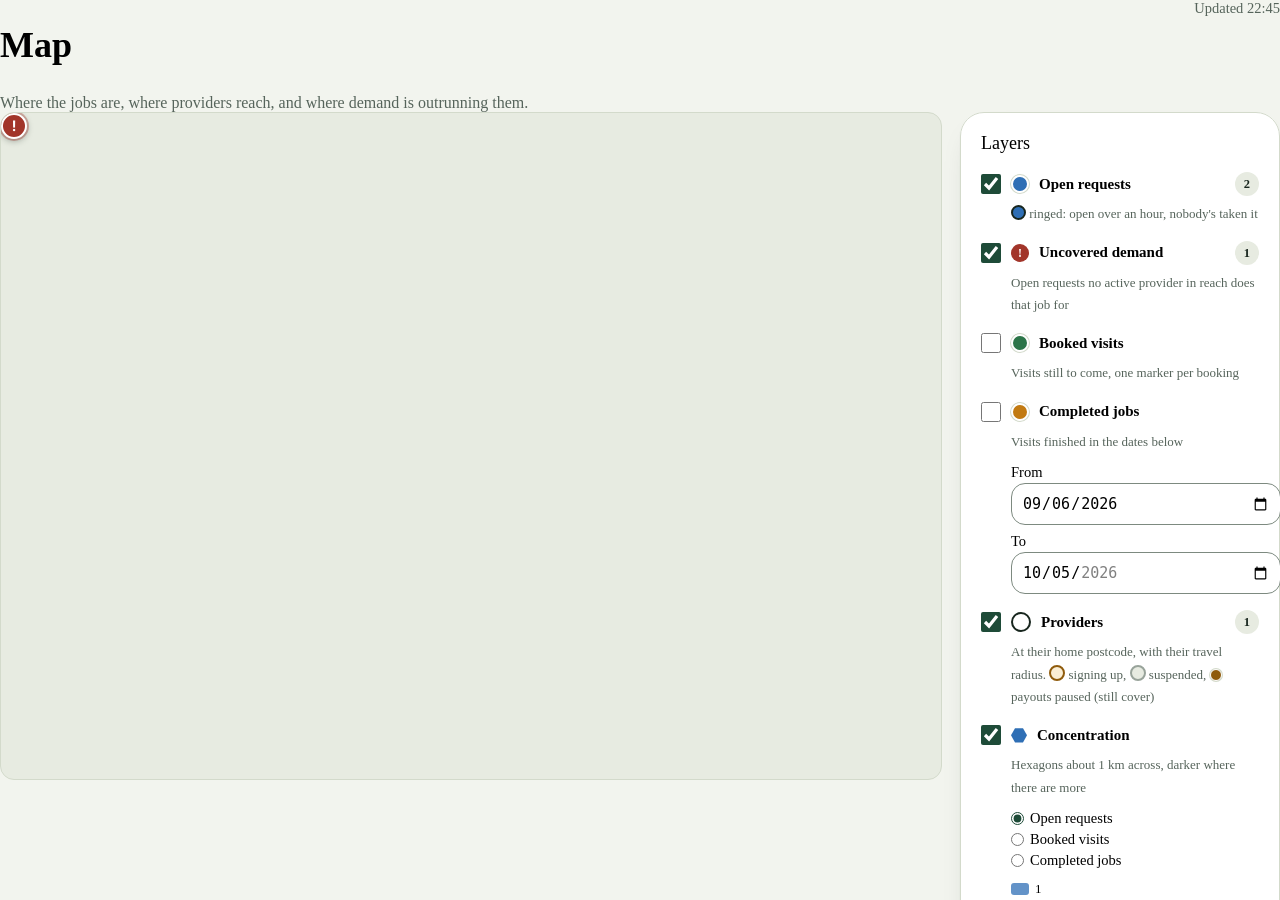
the admin map › names who does a covered visit, and links to them
Click the checkbox labelled "Booked visits" at (991, 343), box top-left (981, 333), bottom-right (1001, 353)
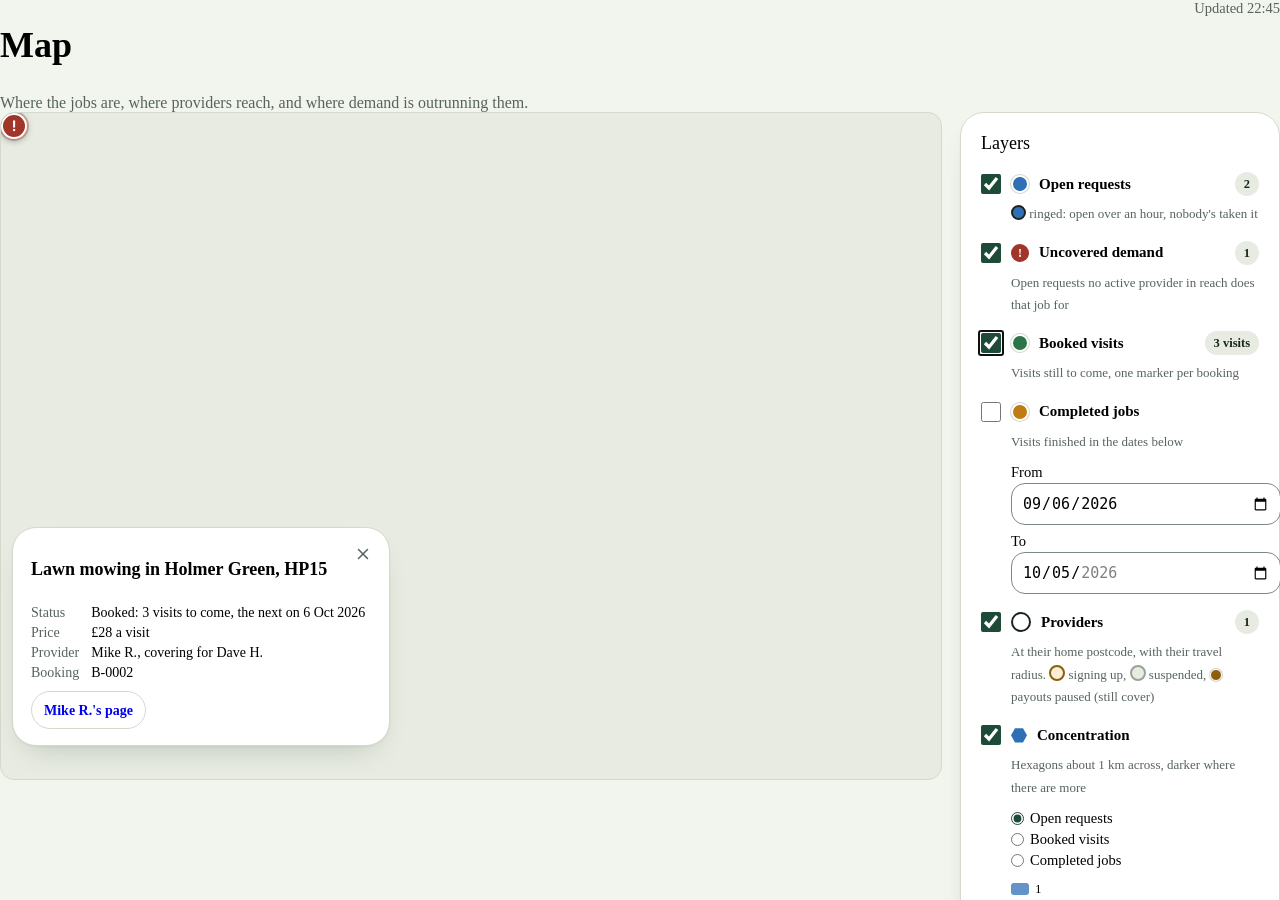
Now the element named "Details" shows "Booked: 3 visits to come, the next on 6 Oct 2026", box top-left (91, 605), bottom-right (365, 620)
